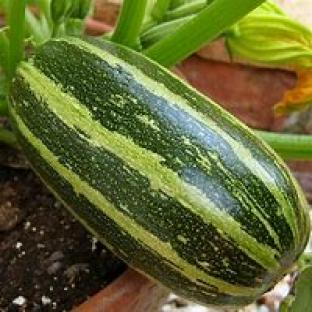Zucchini: (10, 38, 308, 305)
